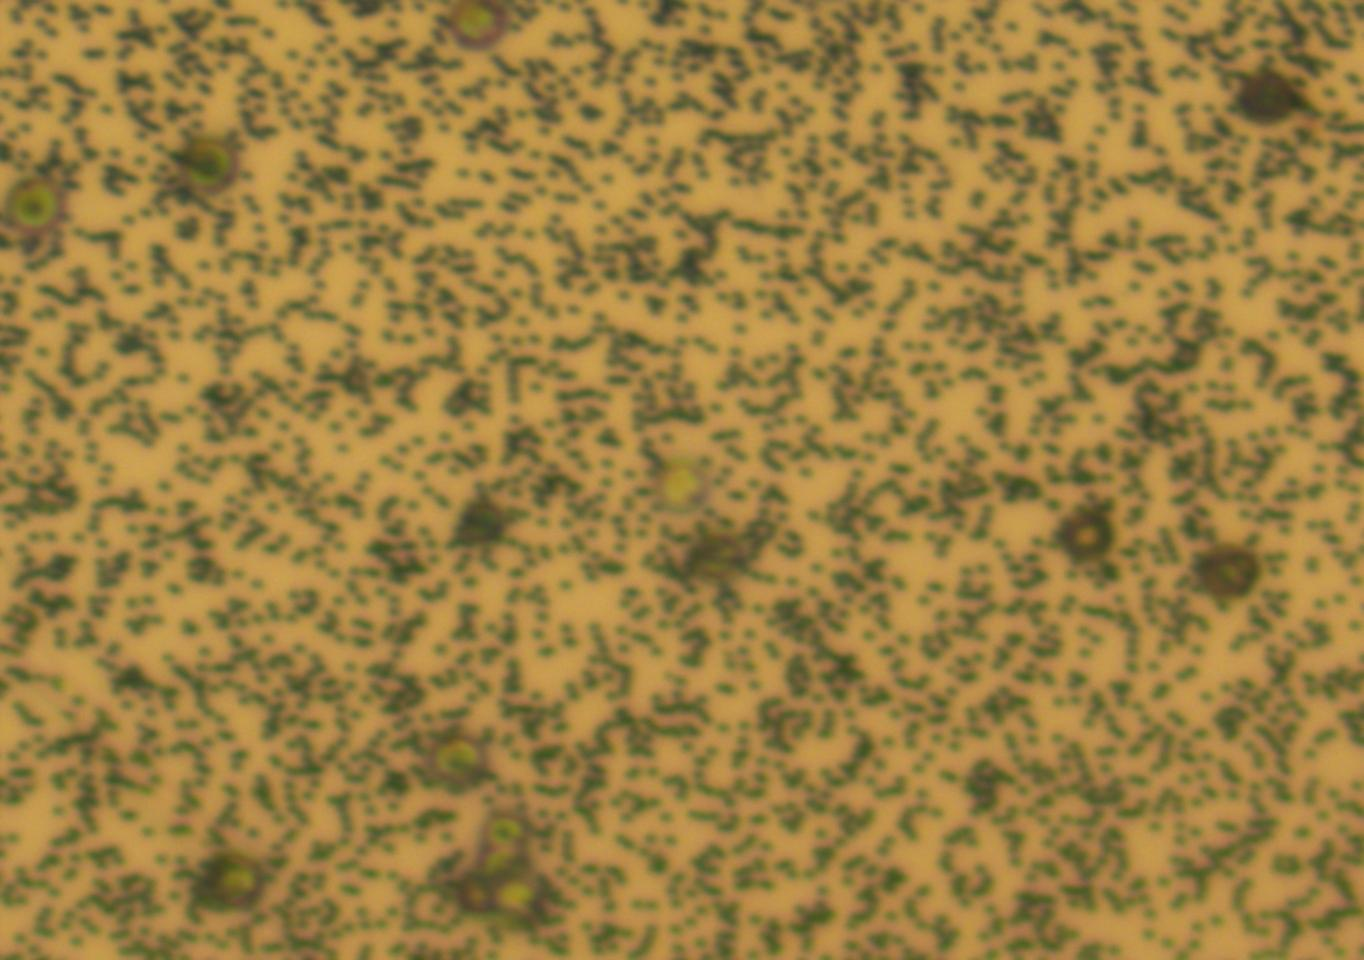Microplastics: (1236, 72, 1298, 128), (1203, 545, 1259, 602), (186, 139, 237, 193), (8, 179, 62, 229), (656, 461, 706, 511), (213, 854, 262, 905), (453, 0, 506, 45), (689, 535, 742, 578), (436, 736, 481, 781), (1069, 513, 1112, 557), (461, 503, 504, 543), (478, 847, 519, 883), (496, 877, 535, 912), (461, 873, 494, 909), (486, 816, 524, 848)
